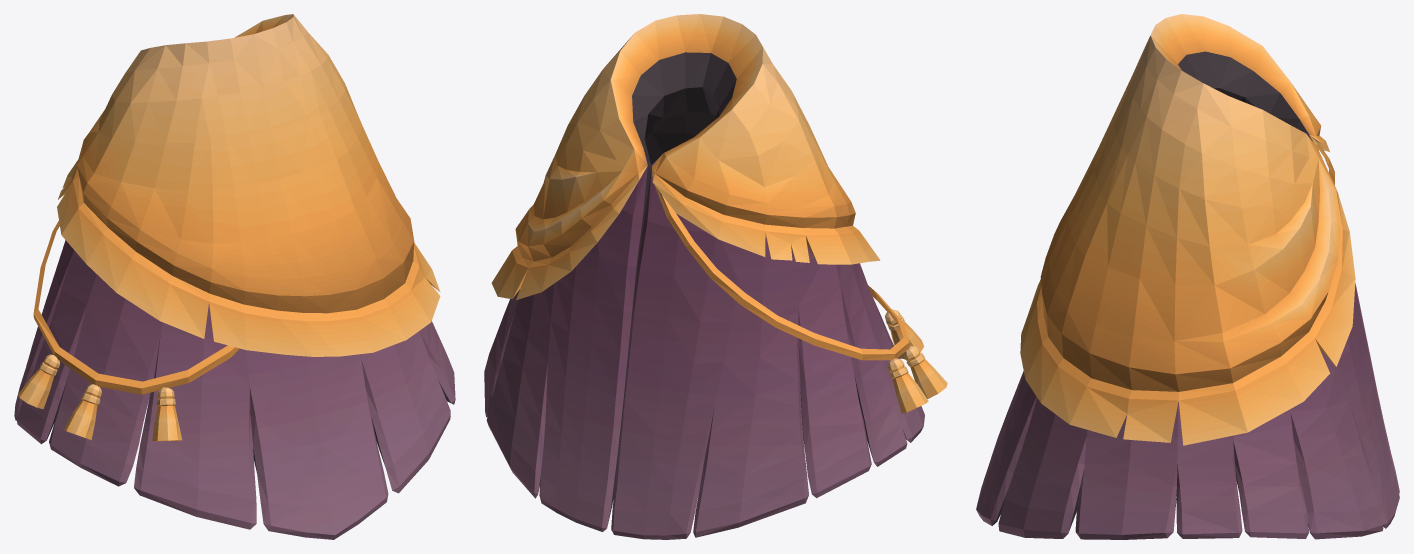
File: CharSkyKid_Wing_AP06Layered_02.glb
3 views of the same model, side by side, from view 1: azimuth 30°, elevation 25°; view 2: azimuth 150°, elevation 25°; view 3: azimuth 270°, elevation 25° (orthographic). The views are drawn at different scales.
Parts seen in each view (by area): view 1: CharSkyKid_Wing_AP06Layered_02; view 2: CharSkyKid_Wing_AP06Layered_02; view 3: CharSkyKid_Wing_AP06Layered_02.
Boxes of the visible parts, left/top/right/bottom form: CharSkyKid_Wing_AP06Layered_02: left=14, top=14, right=455, bottom=539; CharSkyKid_Wing_AP06Layered_02: left=484, top=14, right=947, bottom=539; CharSkyKid_Wing_AP06Layered_02: left=976, top=14, right=1399, bottom=539.
Bounding box in the file's own units: 6.79 × 6.95 × 5.56.
Materials: 1 (1 with a texture image).
